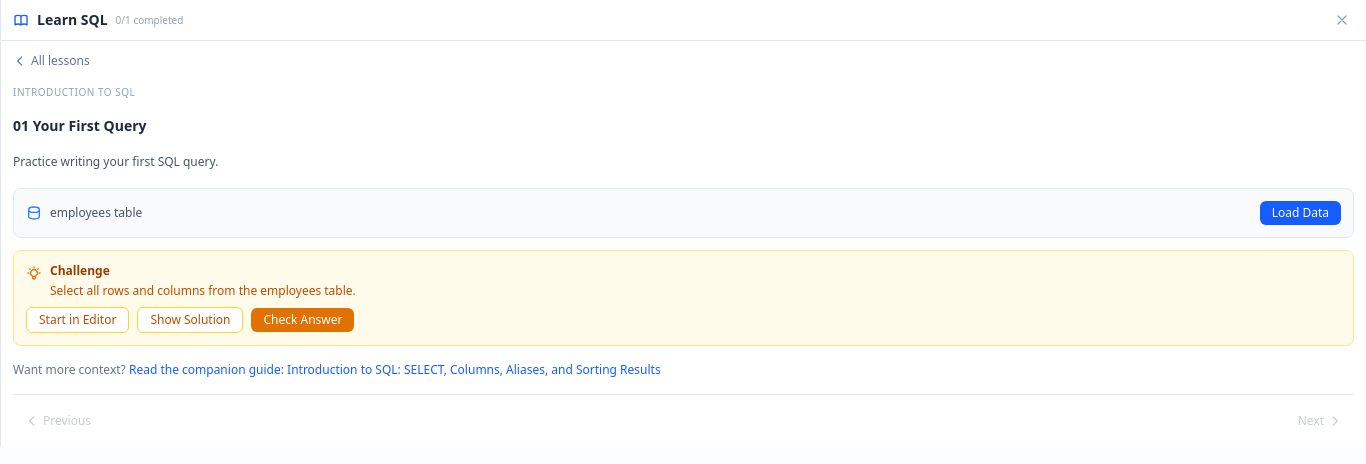
Test: LearnSQLPanel › marks sample data as loaded only after setup SQL runs
Click the button "Load Data" at (1300, 212), box [1260, 200, 1341, 224]
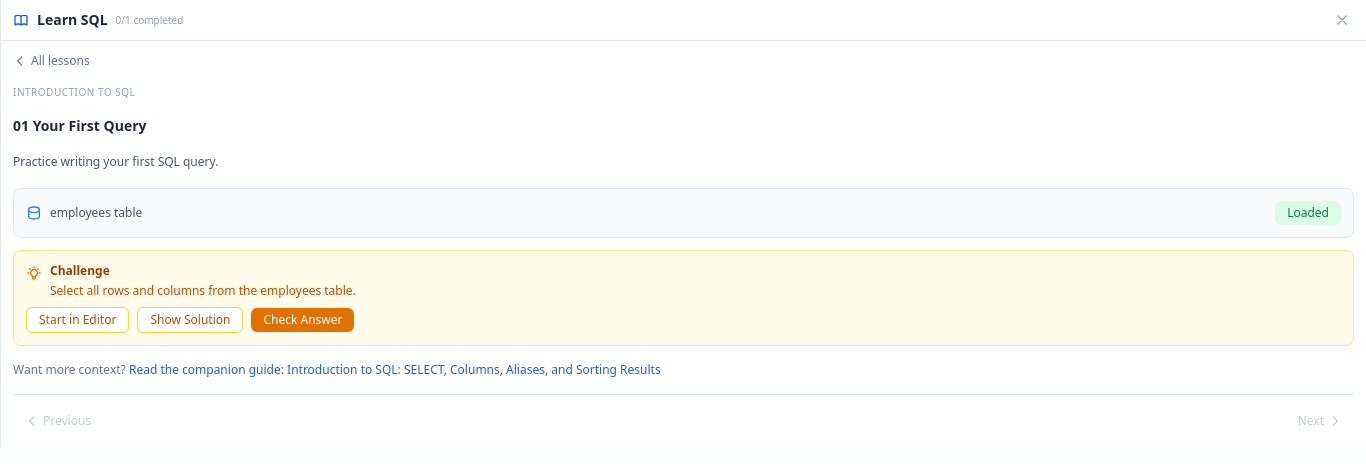
Now the button "Loaded" is shown, box [1275, 200, 1341, 224]
